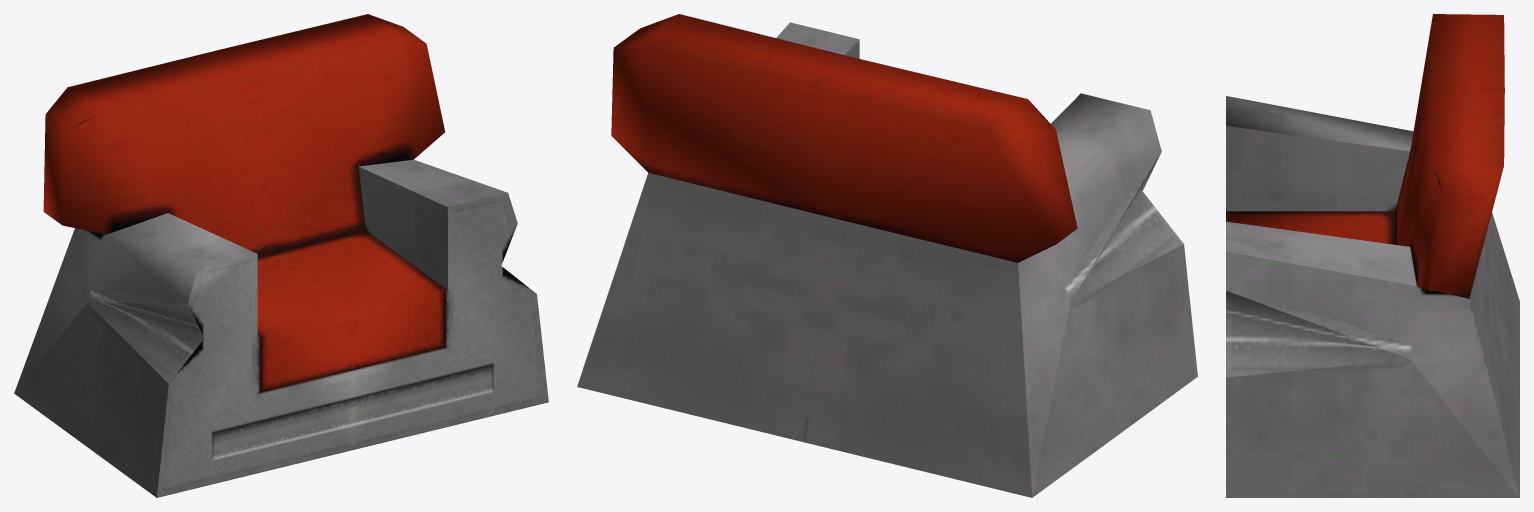
File: eqp_jedi_council_seat_s1_l2.fbx
3 renders of one model, left to right at view 1: azimuth 30°, elevation 25°; view 2: azimuth 150°, elevation 25°; view 3: azimuth 270°, elevation 25°, orthographic. The views are drawn at different scales.
Visible parts, largest first — view 1: mesh_node; view 2: mesh_node; view 3: mesh_node.
Part boxes in pixels (left/top/right/bottom): mesh_node: left=14, top=14, right=548, bottom=497; mesh_node: left=577, top=14, right=1197, bottom=497; mesh_node: left=1226, top=14, right=1519, bottom=497.
Size of the model in its own units: 1.59 by 1.17 by 1.
